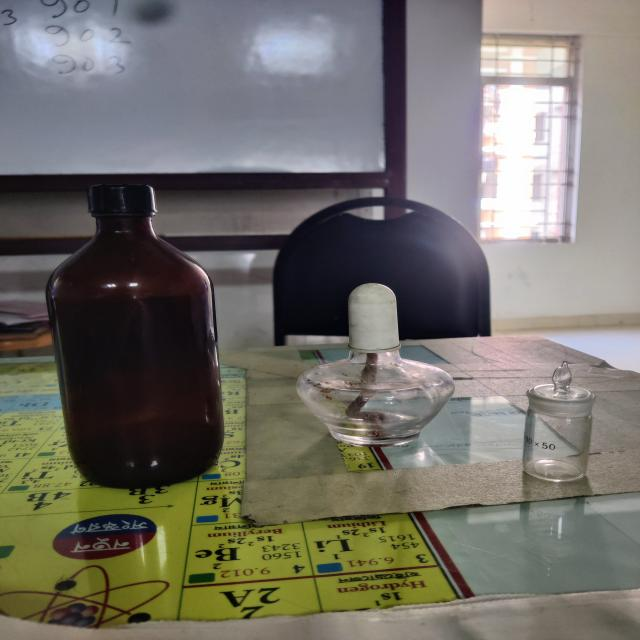Nessler_Reagent_Bottle: (27, 178, 249, 500)
Spirit_Lamp: (284, 259, 472, 464)
Weighing_Bottle: (509, 354, 610, 507)
